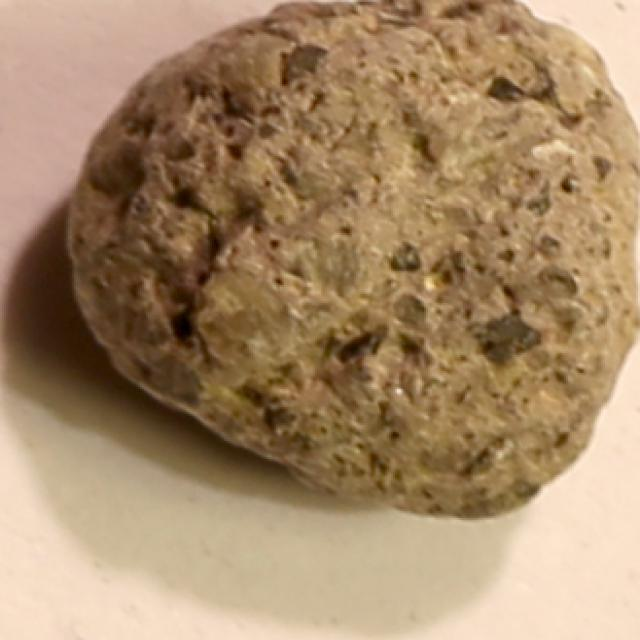stone: (64, 0, 640, 525)
